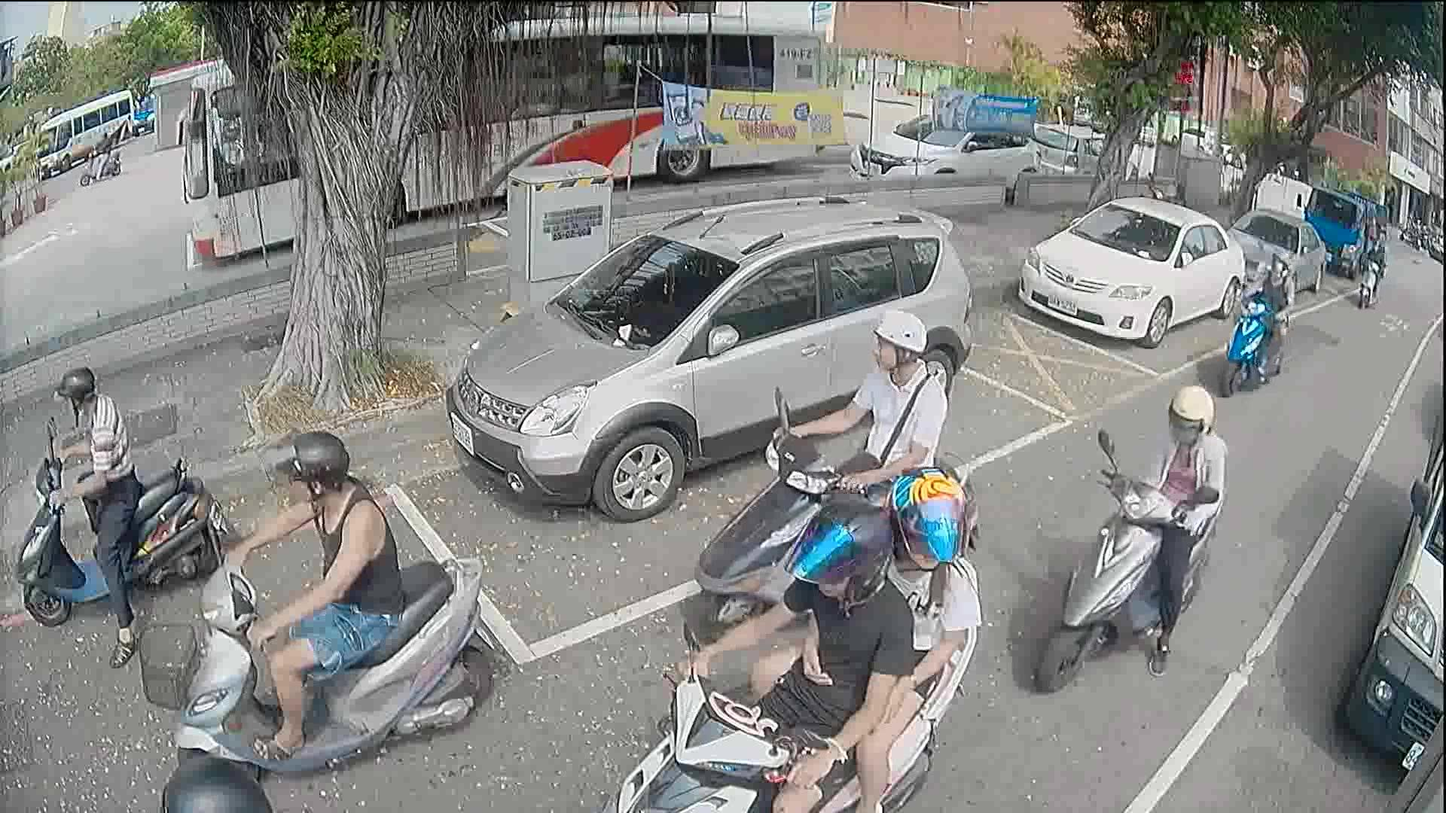person: (752, 455, 978, 812), (661, 492, 911, 812), (214, 423, 403, 769), (770, 311, 946, 498), (35, 355, 140, 659), (1130, 376, 1228, 676), (1229, 256, 1288, 385), (159, 746, 274, 812), (87, 125, 112, 181), (1368, 237, 1383, 263)
